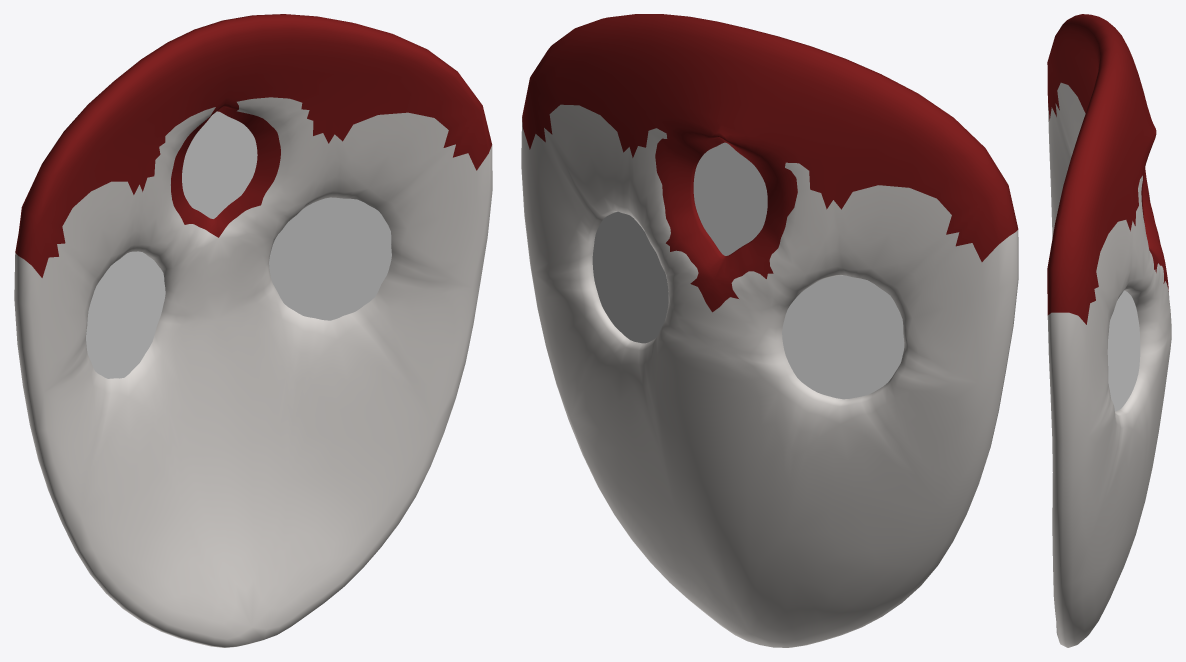
Rendered from Mask2_3.fbx.
3 renders of one model, left to right at view 1: azimuth 30°, elevation 25°; view 2: azimuth 150°, elevation 25°; view 3: azimuth 270°, elevation 25°, orthographic. The views are drawn at different scales.
Parts seen in each view (by area): view 1: Mask2_3; view 2: Mask2_3; view 3: Mask2_3.
Part boxes in pixels (x1,y1,x2,y2): Mask2_3: (14, 14, 492, 647); Mask2_3: (521, 14, 1018, 647); Mask2_3: (1047, 14, 1171, 647).
Bounding box in the file's own units: 18.21 × 22.32 × 4.27.
